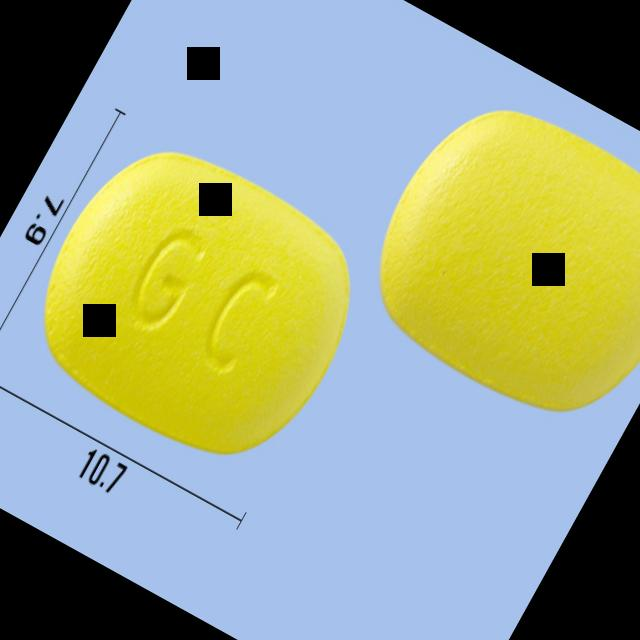Clarimicin: (0, 103, 396, 495)
